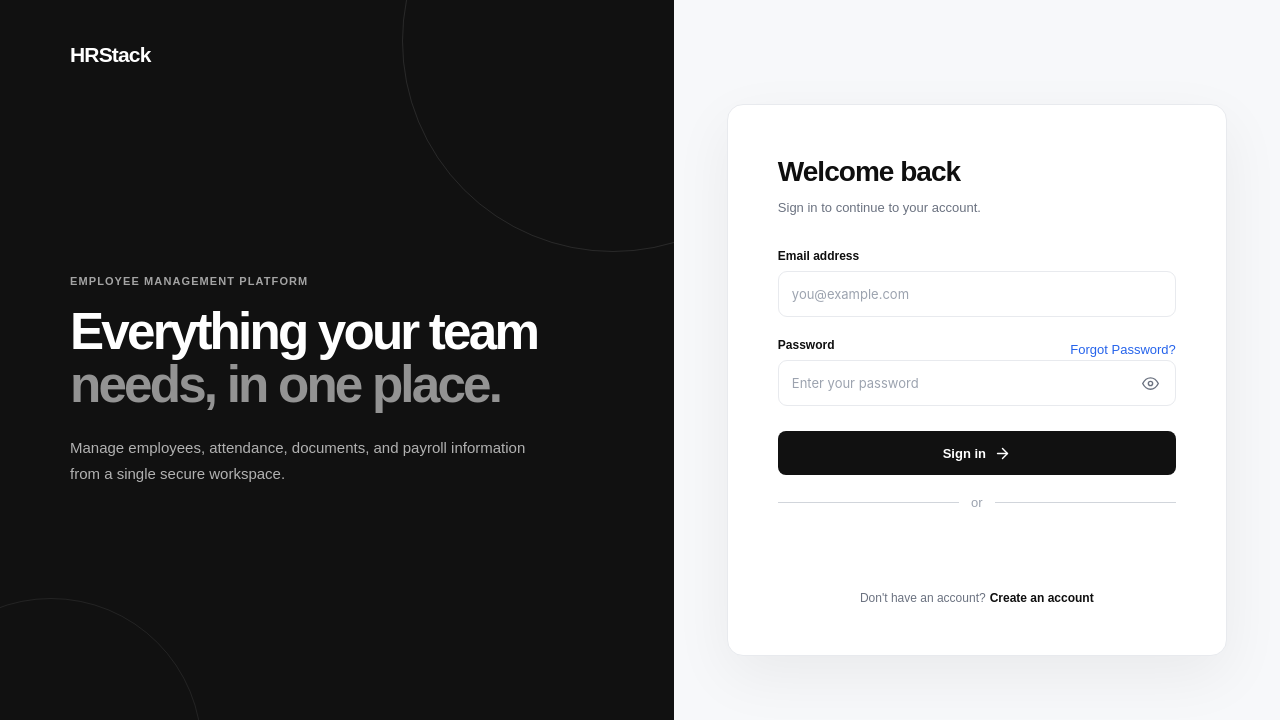
Login page › switches to the OTP step when the backend returns mfaRequired
The width and height of the screenshot is (1280, 720).
Type "user@example.com" into the field labelled "Email address" at {"x": 977, "y": 294}, box [778,271,1176,317]
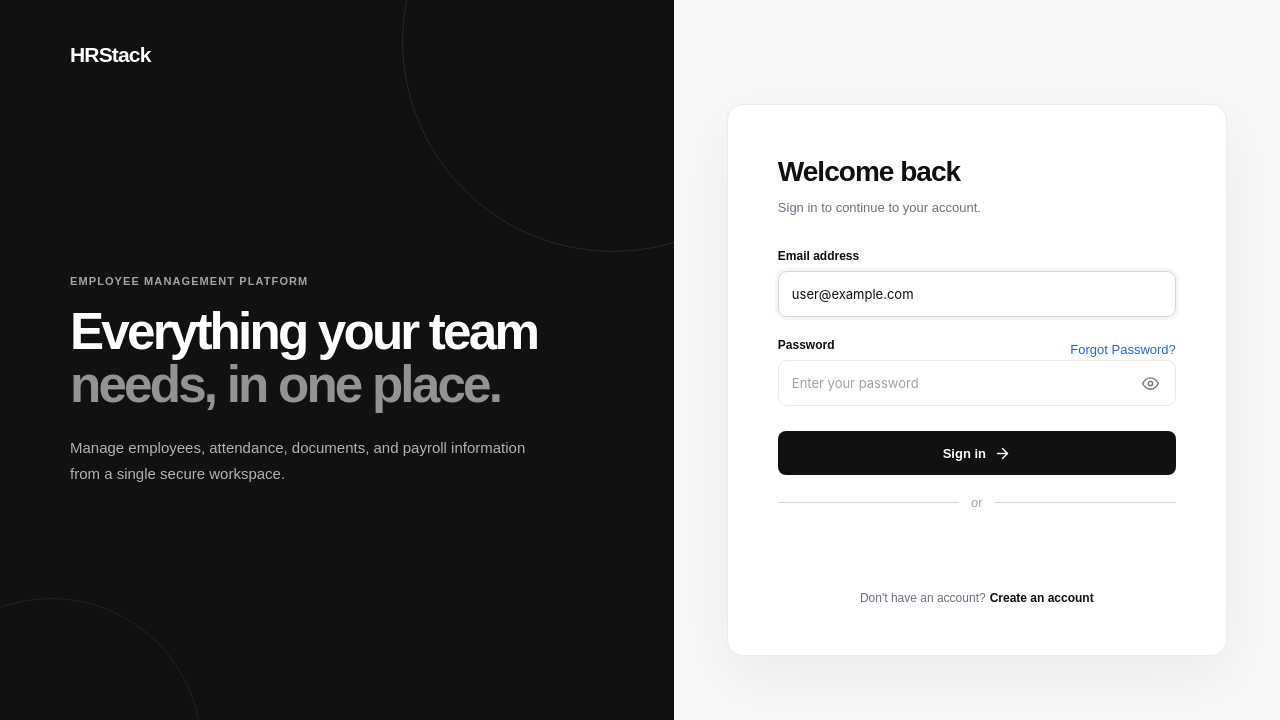
Type "Test@1234" into the password field labelled "Password" at {"x": 977, "y": 383}, box [778,360,1176,406]
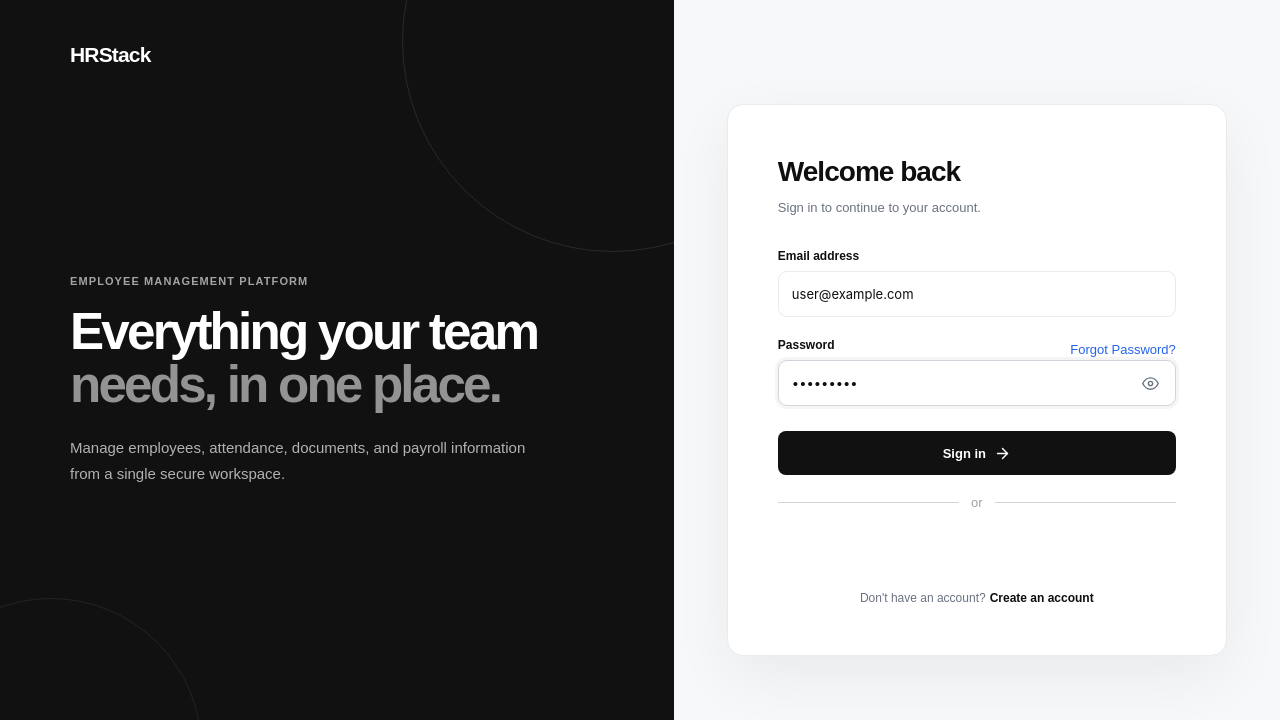
Click the button "Sign in" at {"x": 977, "y": 453}, box [778,431,1176,475]
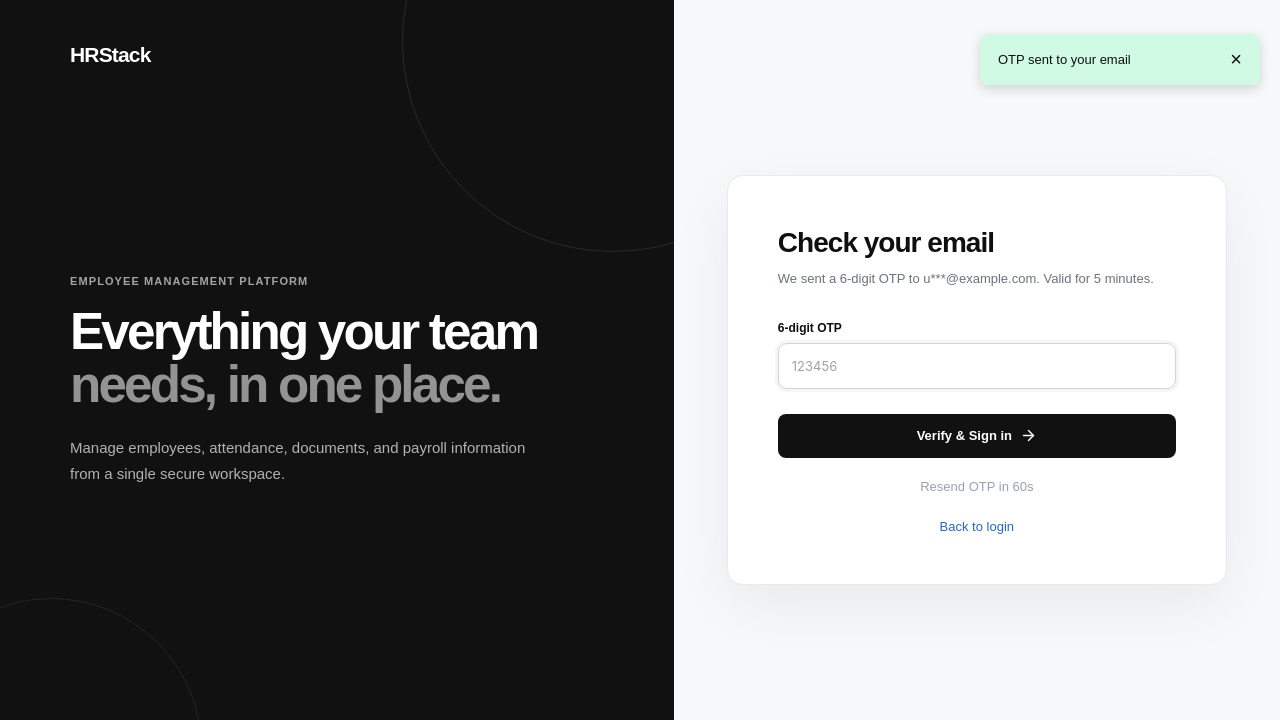
Now the heading "Check your email" is shown, box [778,228,994,258]
Now the text "u***@example.com" is shown, box [923,271,1036,286]
Now the field labelled "6-digit OTP" is shown, box [778,342,1176,388]
